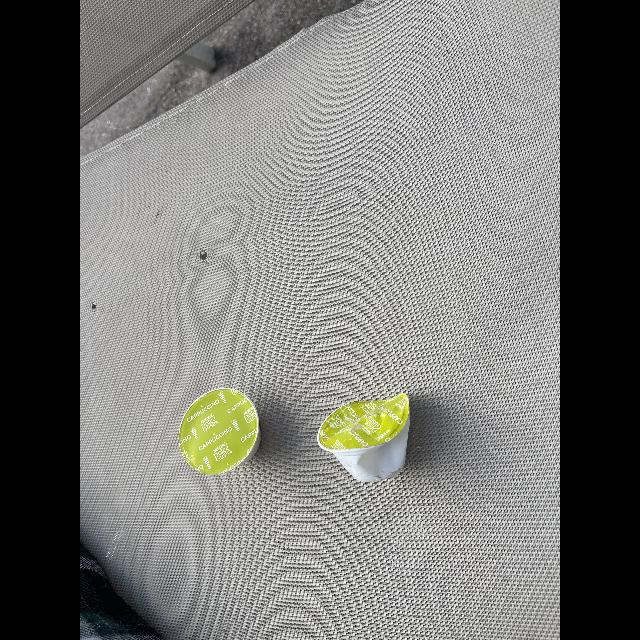damaged_capsule: (316, 391, 414, 484)
intact_capsule: (176, 384, 264, 476)
